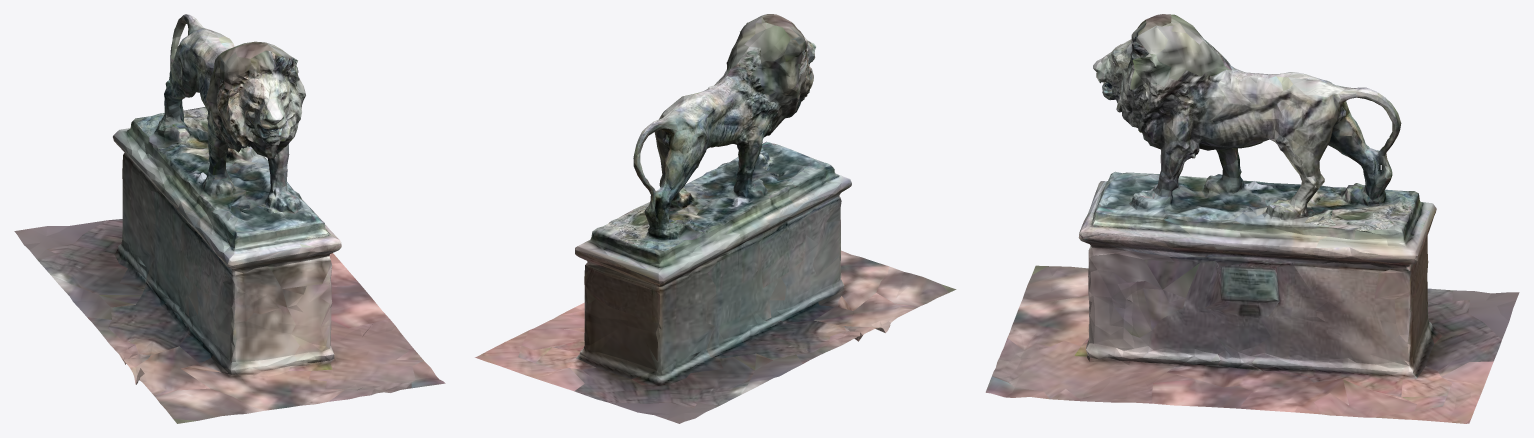
3 views of the same model, side by side, from view 1: azimuth 30°, elevation 25°; view 2: azimuth 150°, elevation 25°; view 3: azimuth 270°, elevation 25° (orthographic). The views are drawn at different scales.
Visible parts, largest first — view 1: map_5618e6fe-a7b9-4d8b-861a-542754a0dea7_densified_mesh_tex; view 2: map_5618e6fe-a7b9-4d8b-861a-542754a0dea7_densified_mesh_tex; view 3: map_5618e6fe-a7b9-4d8b-861a-542754a0dea7_densified_mesh_tex.
Boxes of the visible parts, bbox=[...] form: map_5618e6fe-a7b9-4d8b-861a-542754a0dea7_densified_mesh_tex: bbox=[14, 14, 445, 423]; map_5618e6fe-a7b9-4d8b-861a-542754a0dea7_densified_mesh_tex: bbox=[475, 14, 956, 423]; map_5618e6fe-a7b9-4d8b-861a-542754a0dea7_densified_mesh_tex: bbox=[985, 14, 1519, 423].
Bounding box in the file's own units: 2.58 × 2.45 × 3.64.
Materials: 1 (1 with a texture image).
